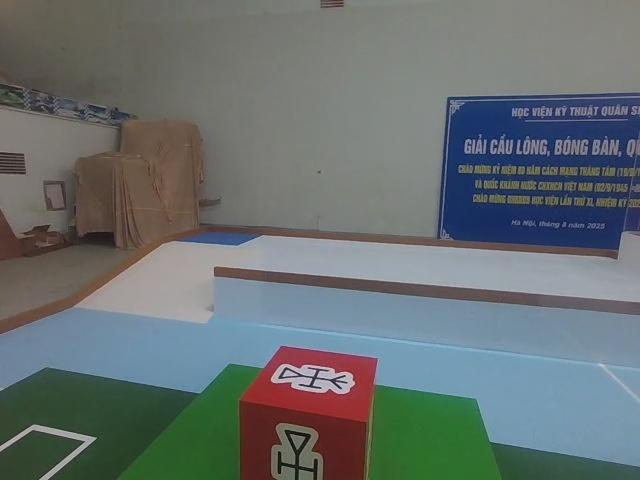R2 Real: (236, 340, 381, 480)
